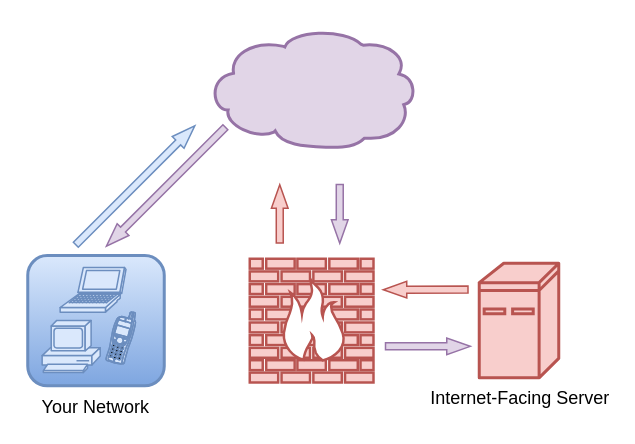
Image size: 635x444. Some labels were removed from this diagram. The shapes that lost their labels are listed below. From the top down, each one's centre as x and y in pixels, then its label:
(x=311, y=87): Internet
(x=311, y=319): smallwall
